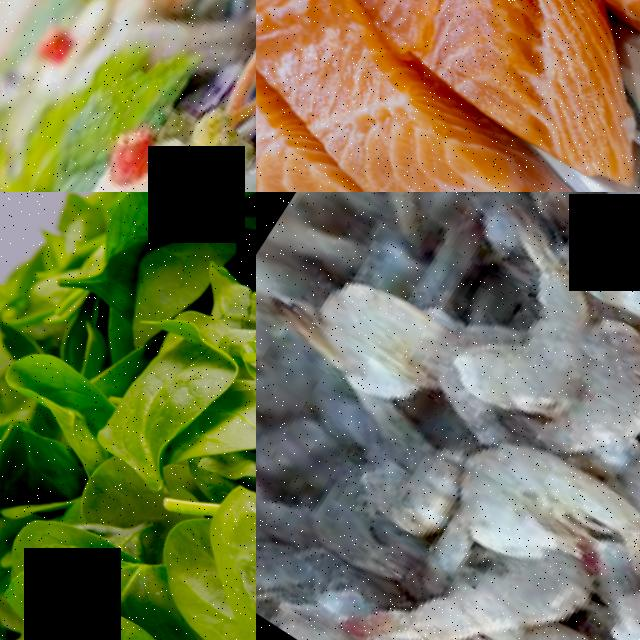salmon: (322, 0, 640, 190), (313, 54, 640, 192), (256, 86, 520, 192), (306, 0, 640, 71)
shrimp: (437, 409, 628, 588), (451, 241, 614, 428), (290, 254, 465, 416)
spinach: (87, 308, 247, 490), (0, 334, 127, 441), (169, 484, 256, 640), (38, 574, 200, 640)
